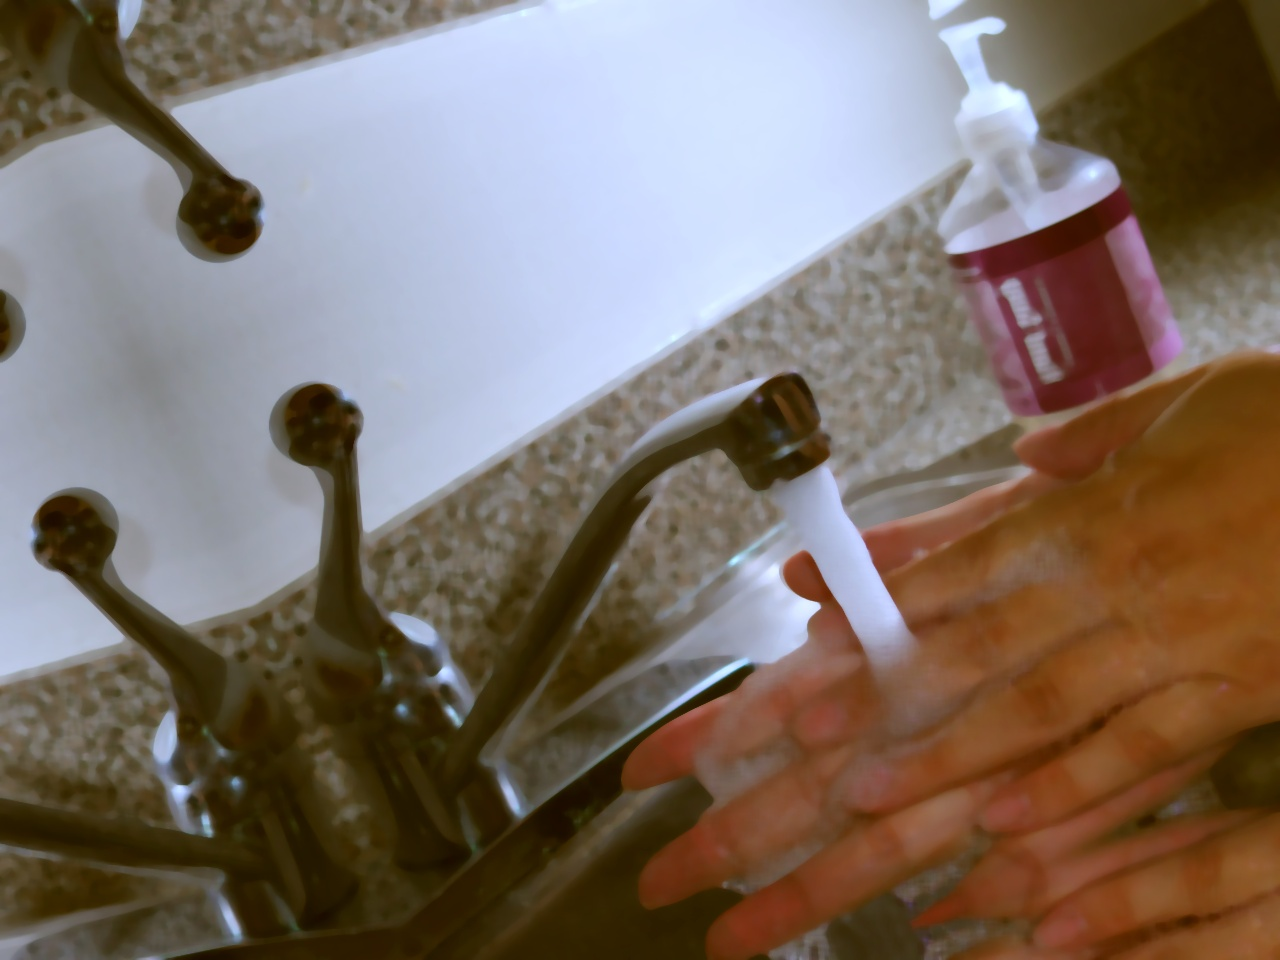washing hand: (394, 144, 1279, 959)
